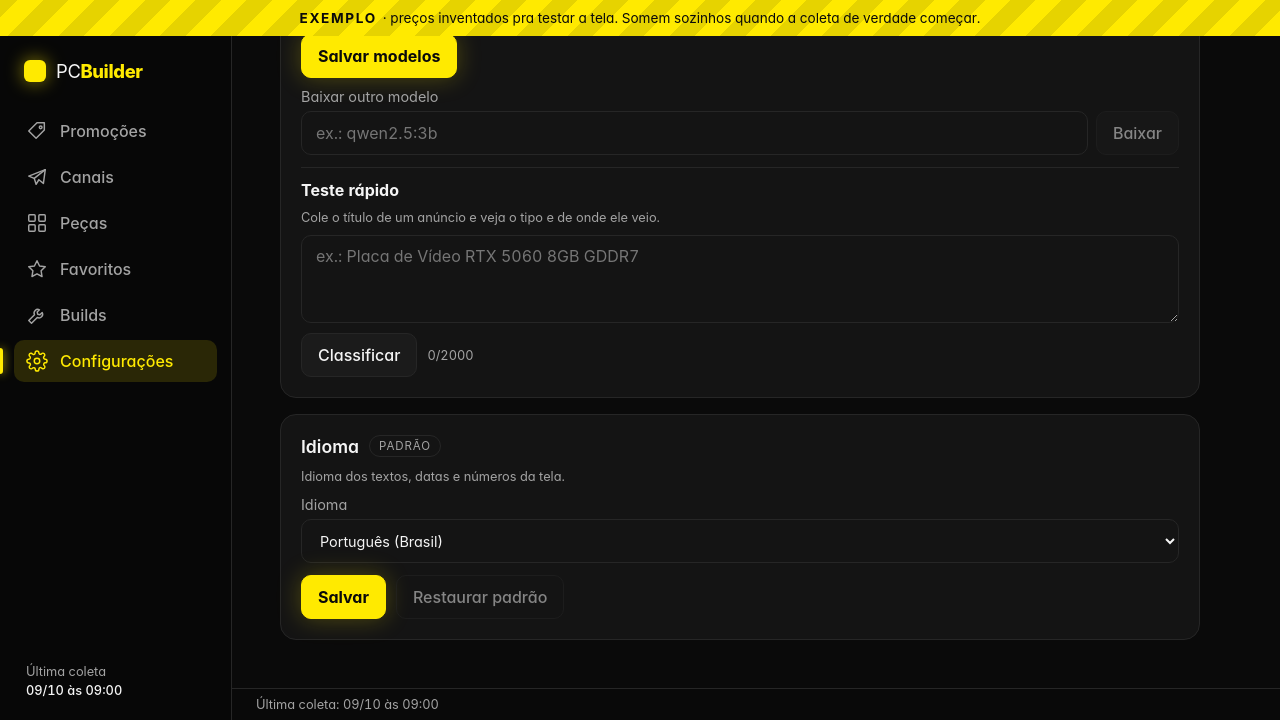
Test: páginas principais em inglês (en) sem sobrar texto em português › Configurações (Settings + Telegram + Scheduler + Ollama) em en e troca ao vivo sem recarregar
(page scrolled)
# Troca para inglês e salva: tudo muda na hora sem recarregar a página
Step 1. Select "English" in the dropdown labelled "Idioma" → (740, 541), box [301,519,1179,563]
(page scrolled)
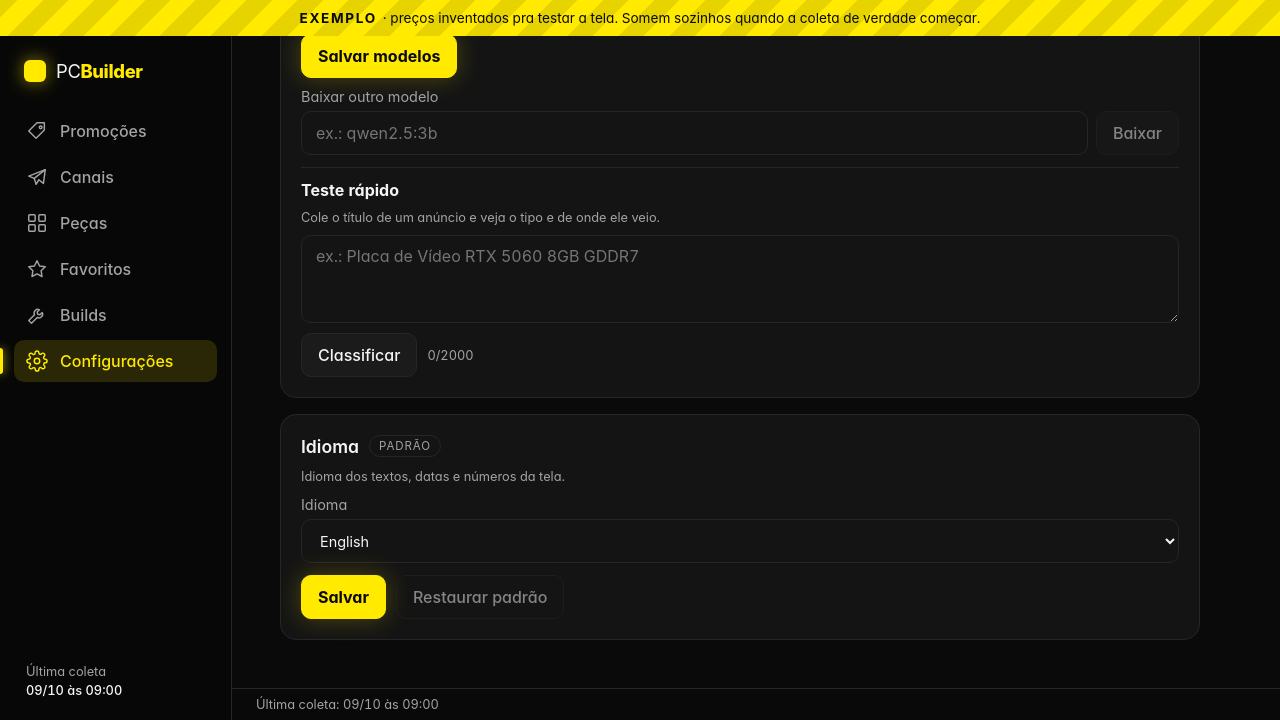
Step 2. Click the button with aria-label "Salvar Idioma" → (344, 597), box [301,575,386,619]
(page scrolled)
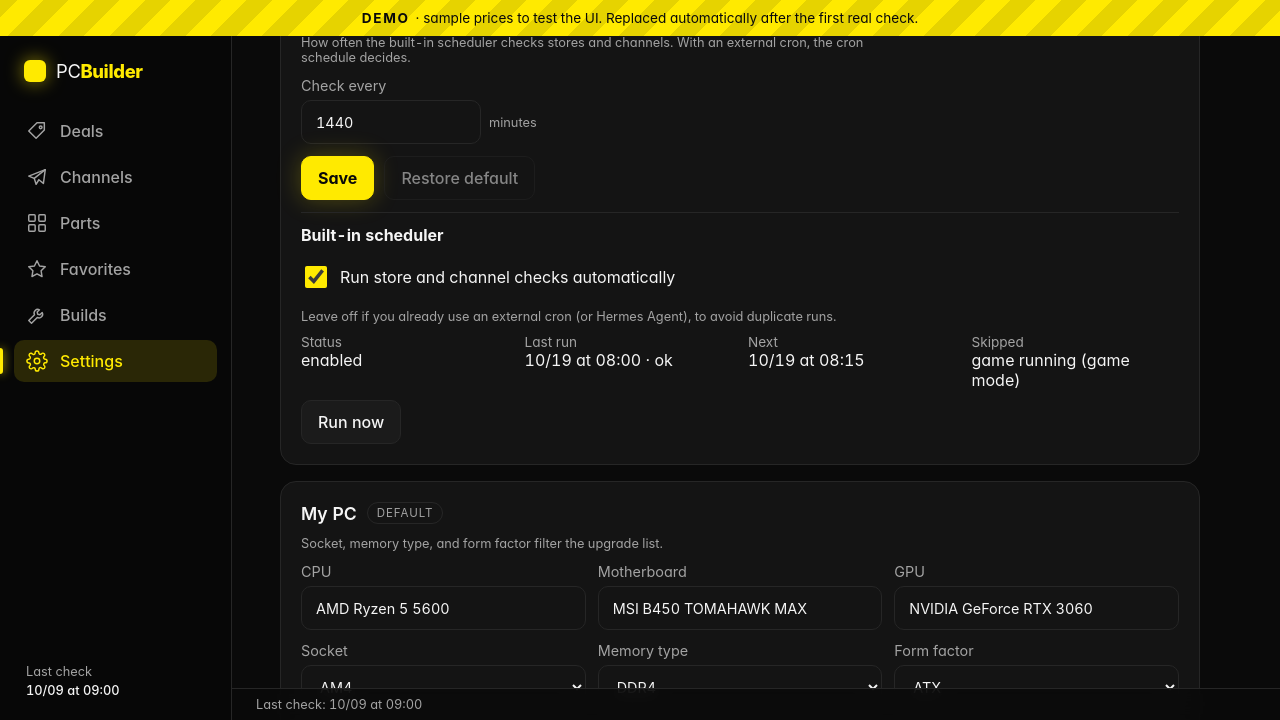
Now the text "10/19 at 08:00 · ok" is shown, box [524,350,673,370]
Now the link "Promoções" no longer shows "Promoções"
Now the link "Peças" no longer shows "Peças"
